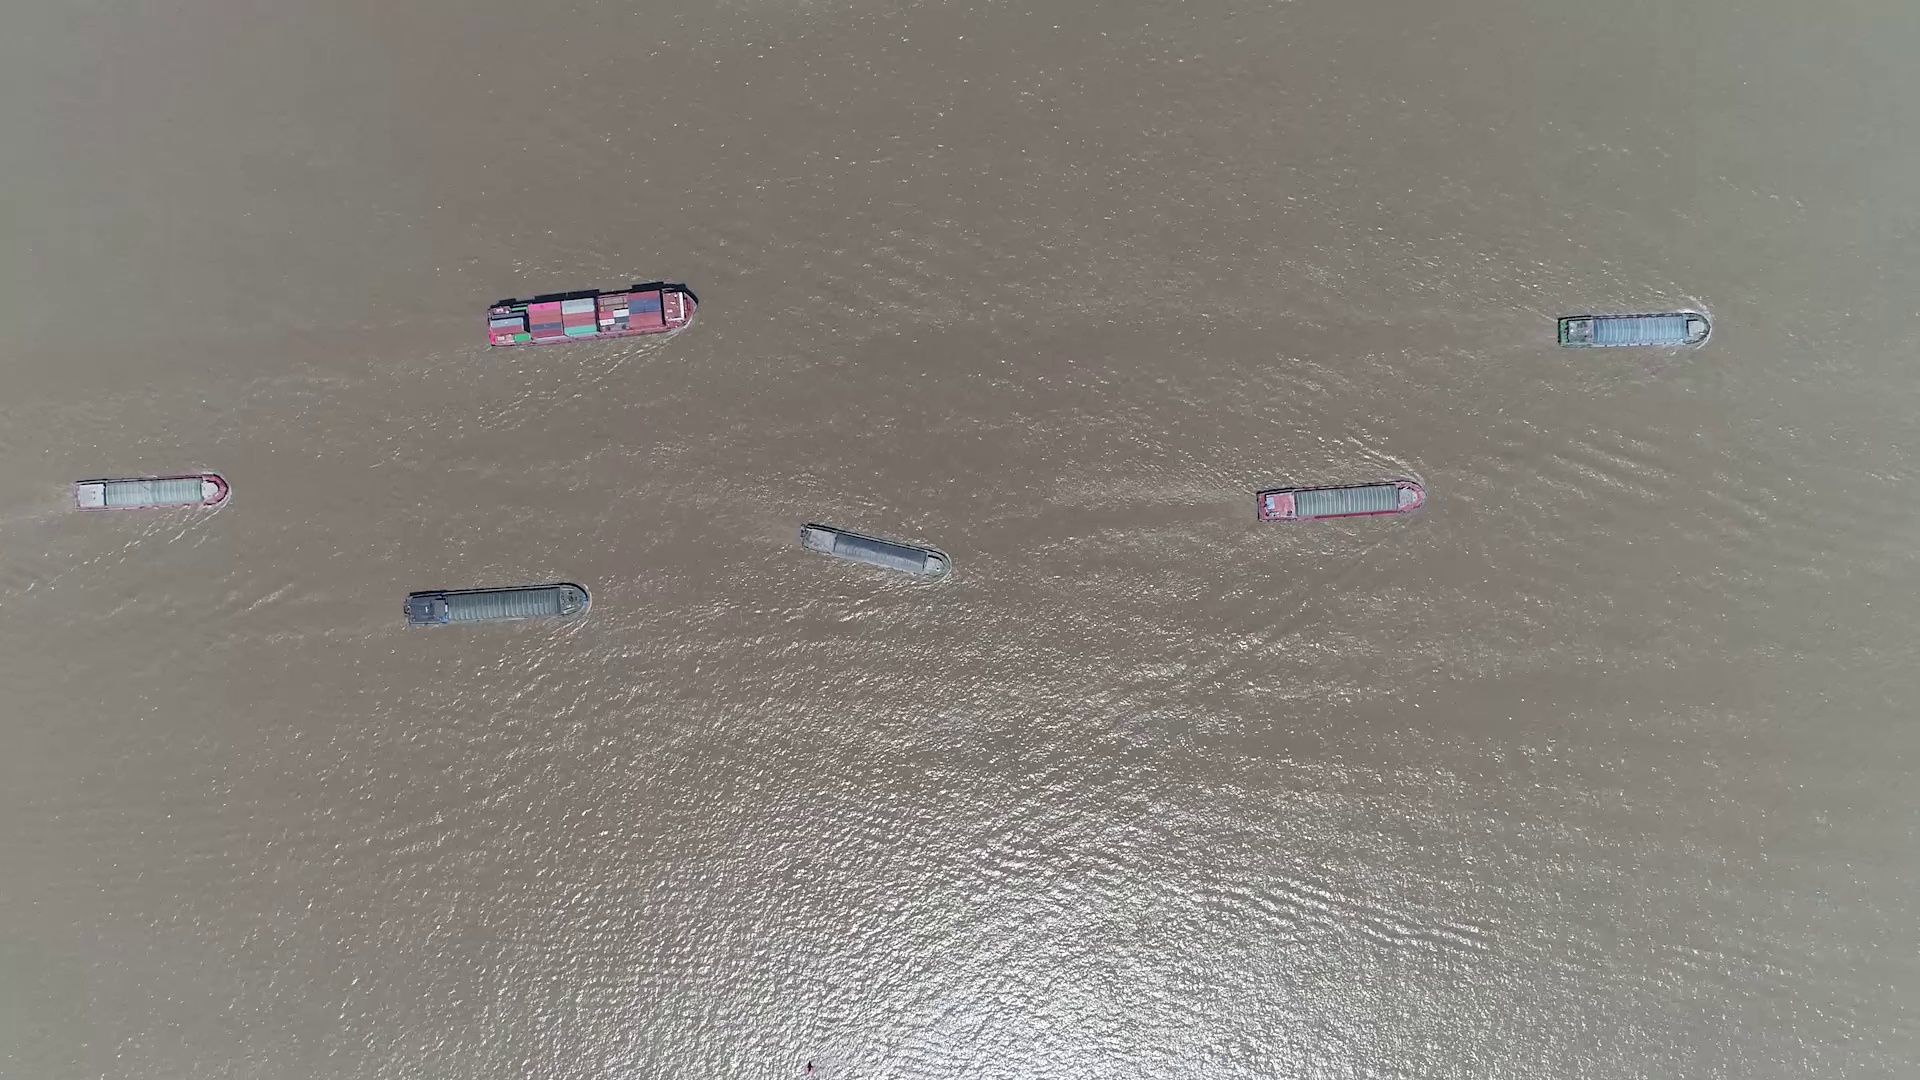ship: (485, 284, 698, 347), (798, 522, 949, 579), (404, 583, 588, 626), (1255, 480, 1425, 524), (73, 473, 228, 512), (1557, 314, 1708, 347)
